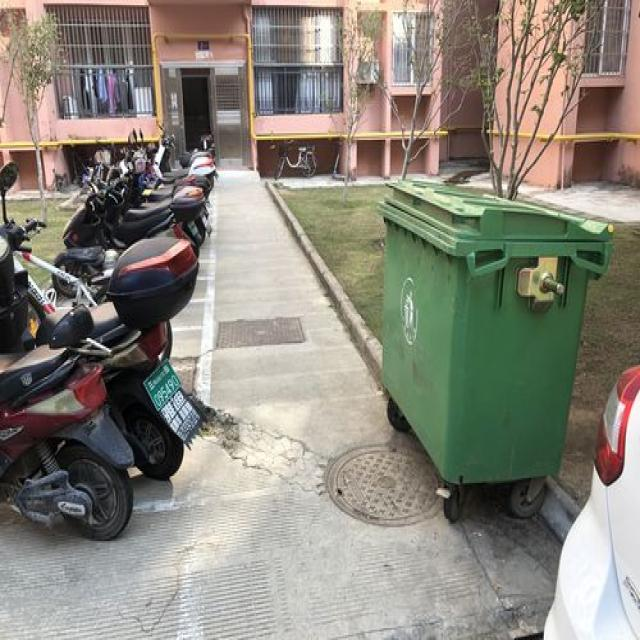garbage_bin: (375, 176, 613, 484)
